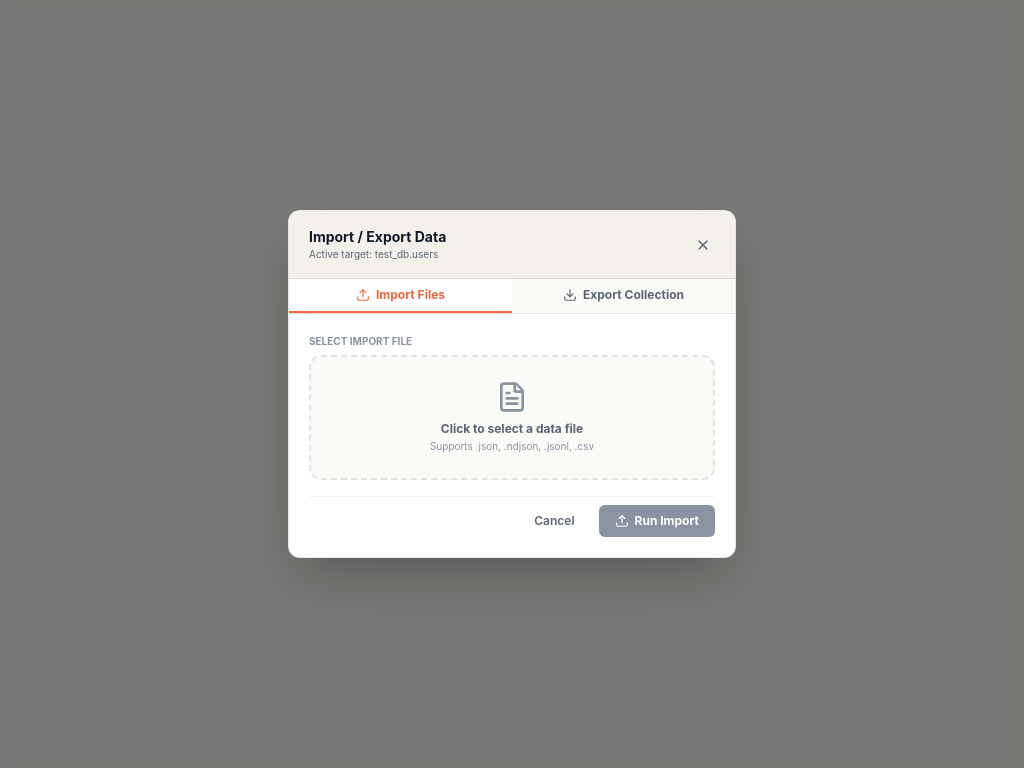
Test: ImportExportModal › switching back to Import tab clears any visible success message
What coordinates should you click on to do the following:
click the button "Export Collection"
I would click on:
 (624, 296)
Its box is [512, 279, 735, 313].
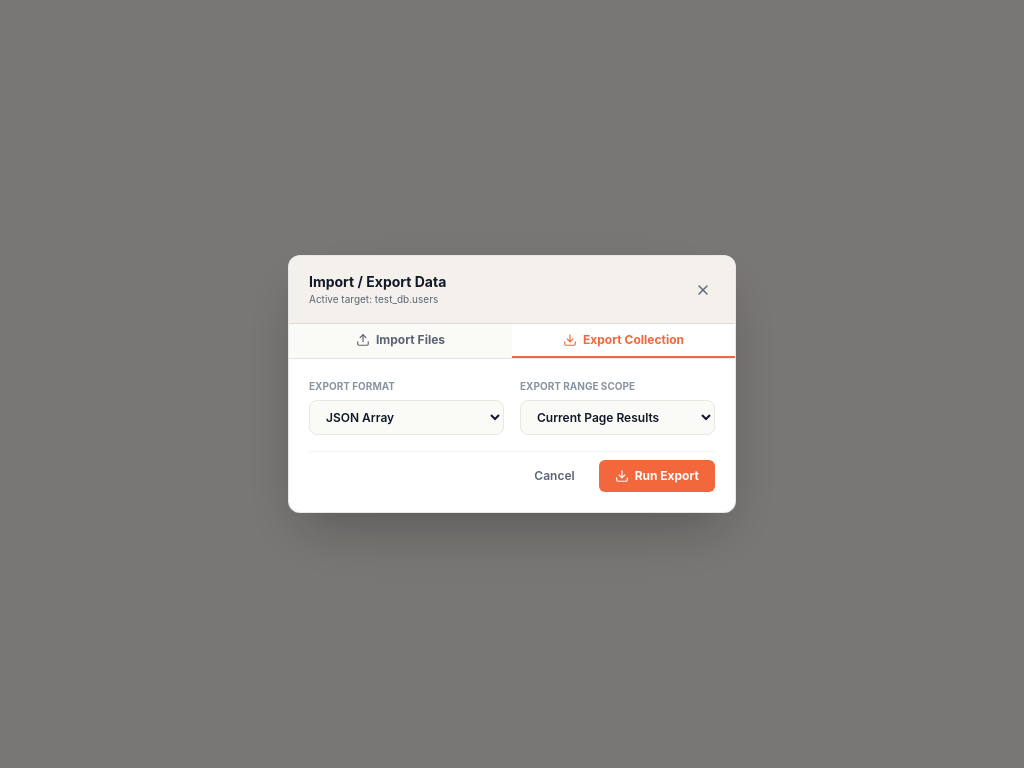
What coordinates should you click on to do the following:
click the button "Run Export"
I would click on:
 (657, 476)
Its box is [599, 460, 715, 492].
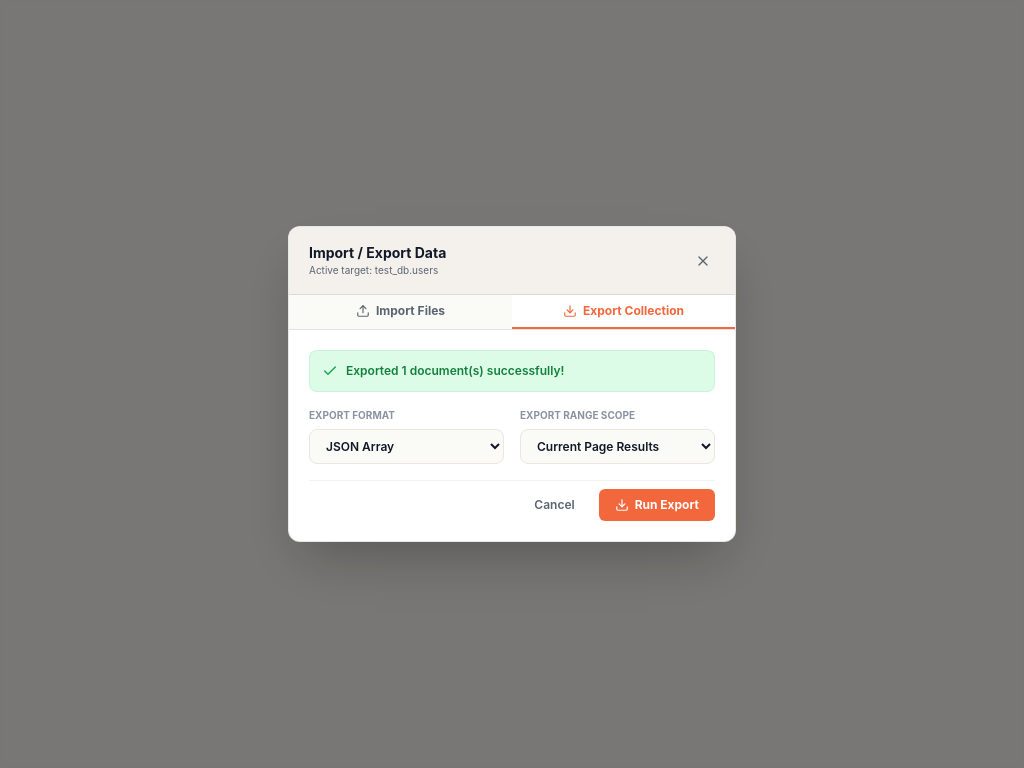
Expected: the text "Exported 1 document(s) successfully!" is shown, [346, 363, 564, 379]
What coordinates should you click on to do the following:
click the button "Import Files"
I would click on:
 (400, 312)
Its box is [289, 295, 512, 329].
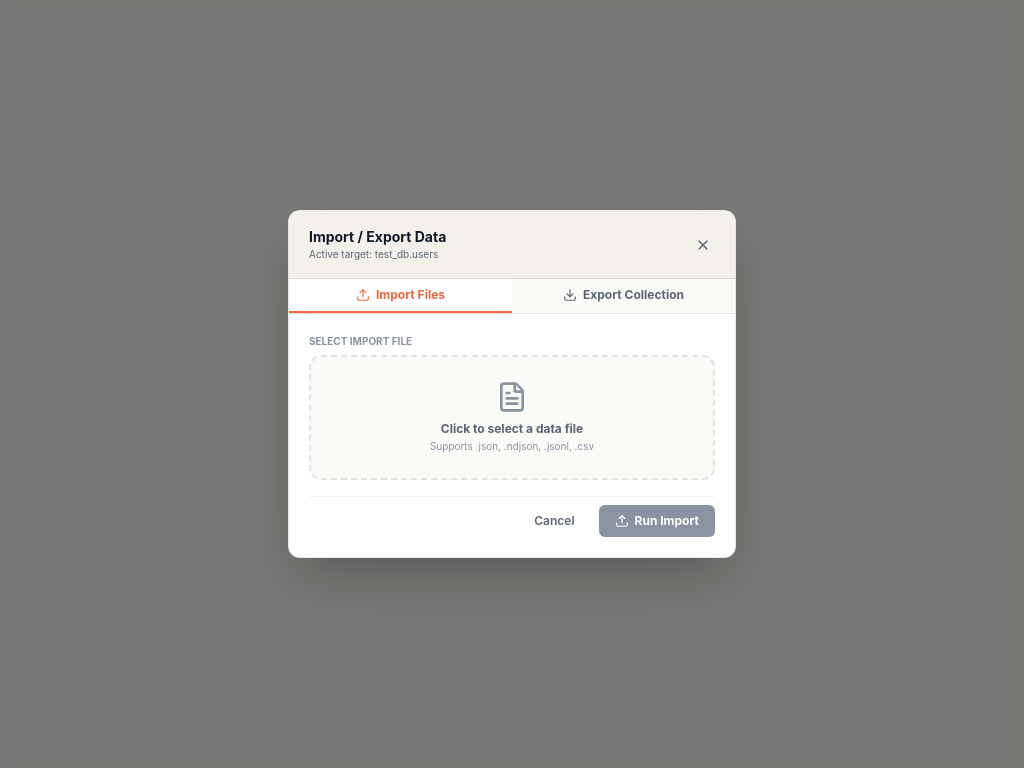
Expected: the text "Exported 1 document(s) successfully!" is gone
